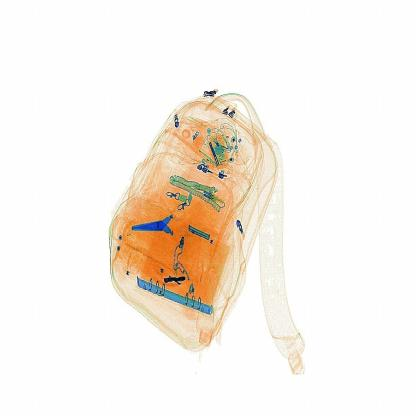gun: (118, 208, 184, 247)
